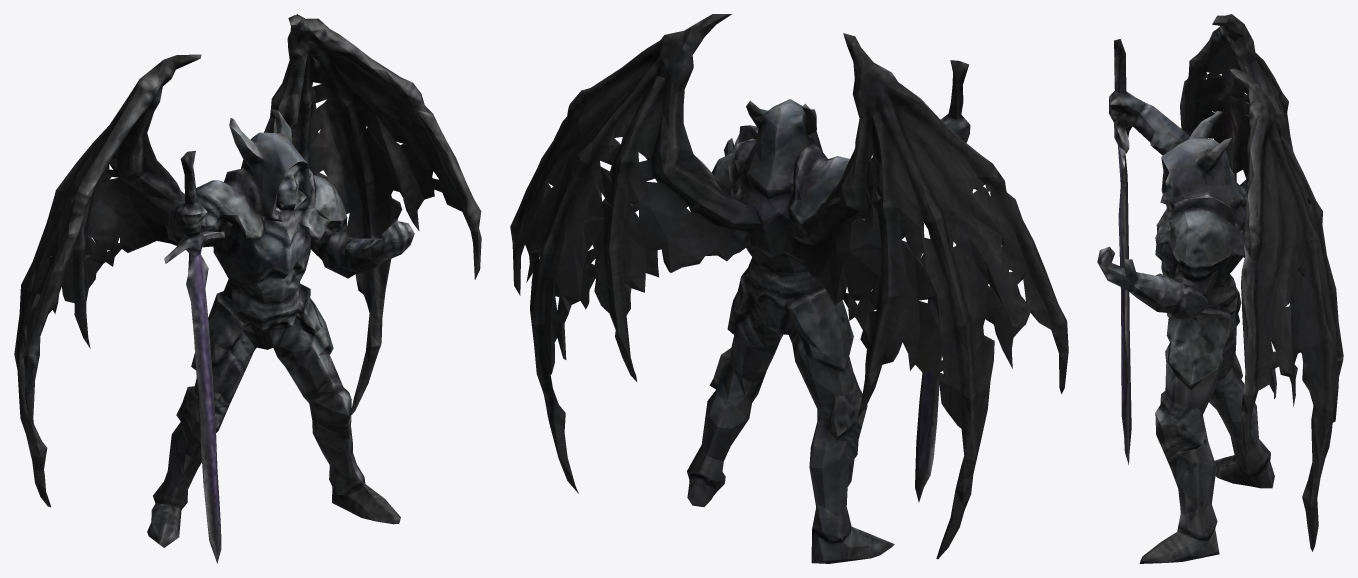
Rendered from foe_kaelith.glb.
3 views of the same model, side by side, from view 1: azimuth 30°, elevation 25°; view 2: azimuth 150°, elevation 25°; view 3: azimuth 270°, elevation 25° (orthographic). The views are drawn at different scales.
Parts seen in each view (by area): view 1: tripo_node_71419767-3b27-4685-8304-7b8297c35a2a.001; view 2: tripo_node_71419767-3b27-4685-8304-7b8297c35a2a.001; view 3: tripo_node_71419767-3b27-4685-8304-7b8297c35a2a.001.
Boxes of the visible parts, <box> form: tripo_node_71419767-3b27-4685-8304-7b8297c35a2a.001: <box>14,14,481,563</box>; tripo_node_71419767-3b27-4685-8304-7b8297c35a2a.001: <box>510,14,1068,563</box>; tripo_node_71419767-3b27-4685-8304-7b8297c35a2a.001: <box>1097,14,1343,563</box>.
Bounding box in the file's own units: 0.969 × 0.9161 × 0.4348.
Materials: 1 (1 with a texture image).
